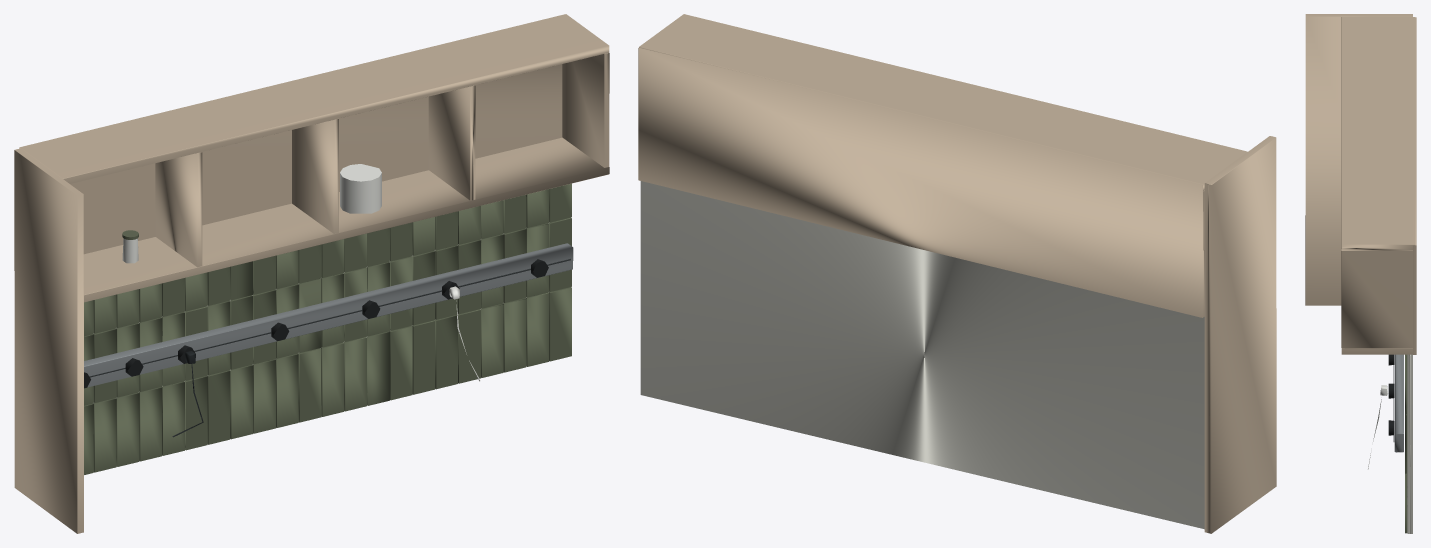
3 views of the same model, side by side, from view 1: azimuth 30°, elevation 25°; view 2: azimuth 150°, elevation 25°; view 3: azimuth 270°, elevation 25° (orthographic). The views are drawn at different scales.
Parts seen in each view (by area): view 1: Upper open shelf back, Vertical olive tile 00 0, Grey socket track, Plain white shelf bowl, Round black socket module 0, Track continuous dark center slot; view 2: Upper open shelf back, Backsplash warm grout backing; view 3: Upper open shelf back, Backsplash warm grout backing, Grey socket track, Vertical olive tile 00 0, Round black socket module 0, Plain white shelf bowl.
Boxes of the visible parts, x1=… form: Upper open shelf back: x1=14, y1=14, x2=609, y2=533; Vertical olive tile 00 0: x1=84, y1=183, x2=571, y2=474; Grey socket track: x1=84, y1=243, x2=573, y2=387; Plain white shelf bowl: x1=122, y1=164, x2=480, y2=381; Round black socket module 0: x1=84, y1=259, x2=548, y2=388; Track continuous dark center slot: x1=89, y1=259, x2=570, y2=377; Upper open shelf back: x1=638, y1=14, x2=1276, y2=533; Backsplash warm grout backing: x1=640, y1=181, x2=1204, y2=529; Upper open shelf back: x1=1305, y1=14, x2=1416, y2=354; Backsplash warm grout backing: x1=1407, y1=354, x2=1412, y2=533; Grey socket track: x1=1394, y1=354, x2=1403, y2=452; Vertical olive tile 00 0: x1=1405, y1=354, x2=1407, y2=533; Round black socket module 0: x1=1388, y1=354, x2=1394, y2=435; Plain white shelf bowl: x1=1368, y1=385, x2=1387, y2=469.
Size of the model in its own units: 2.43 by 1.42 by 0.4947.
